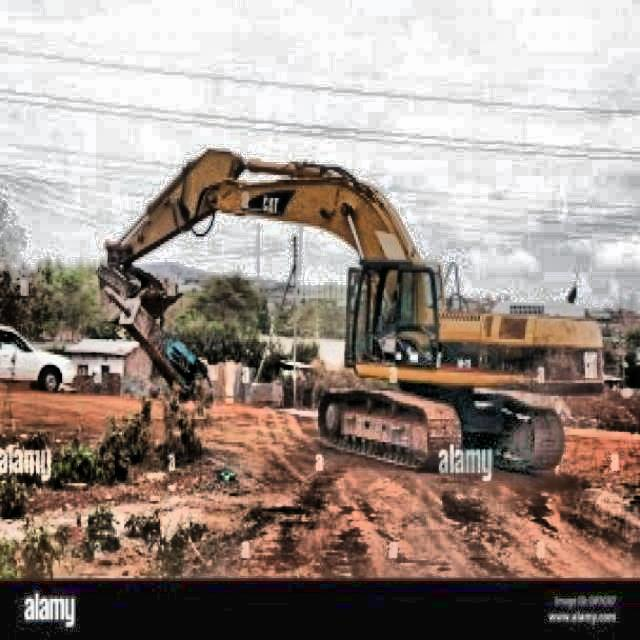bull_dozer/loader/grader: (97, 146, 608, 473)
person: (378, 280, 408, 337)
